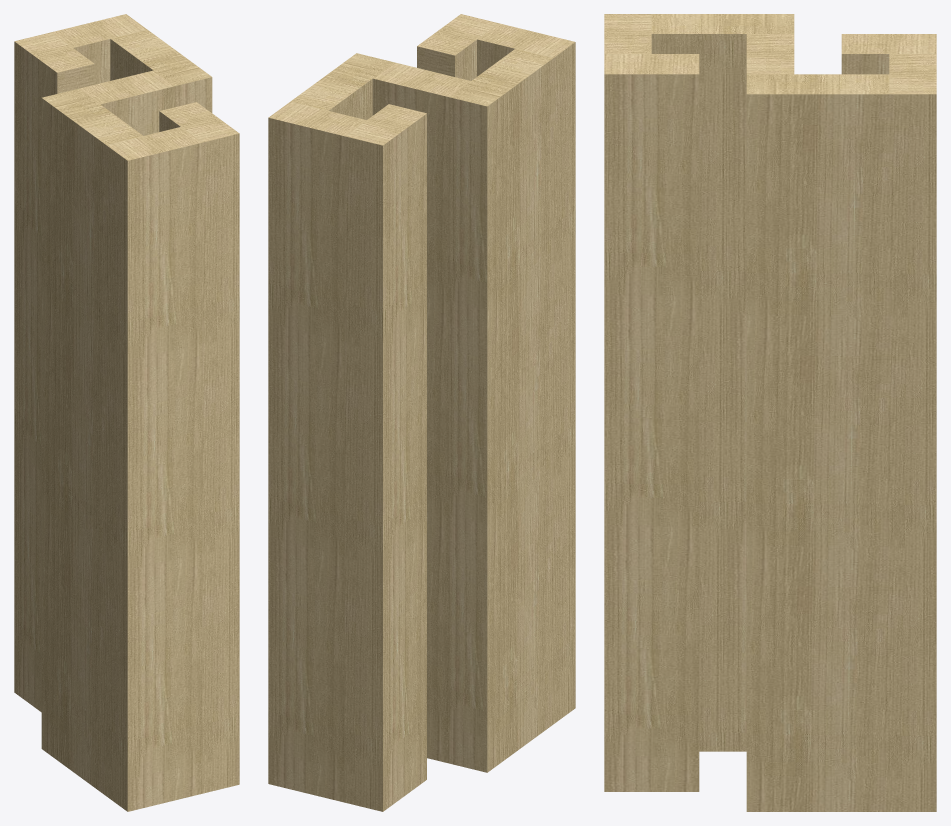
The picture shows the model from 3 angles, left to right: view 1: azimuth 30°, elevation 25°; view 2: azimuth 150°, elevation 25°; view 3: azimuth 270°, elevation 25°; orthographic projection. The views are drawn at different scales.
Parts seen in each view (by area): view 1: Geom3D (×7); view 2: Geom3D (×7); view 3: Geom3D (×7).
Boxes of the visible parts, x1,y1,x2,y2 form: Geom3D (×7): [14, 14, 239, 811]; Geom3D (×7): [268, 14, 575, 811]; Geom3D (×7): [604, 14, 936, 811].
Size of the model in its own units: 0.072 by 0.3 by 0.126.
1 material, 1 textured.
